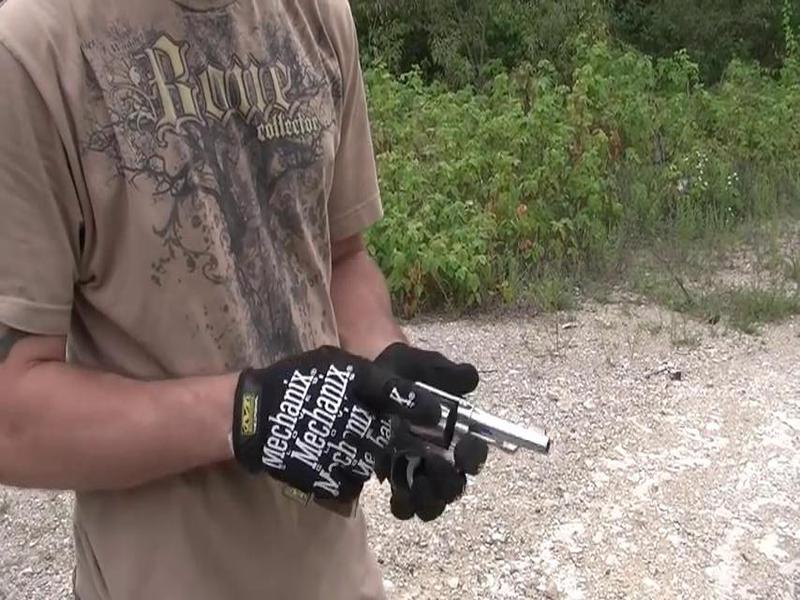Revolver: (353, 354, 561, 494)
